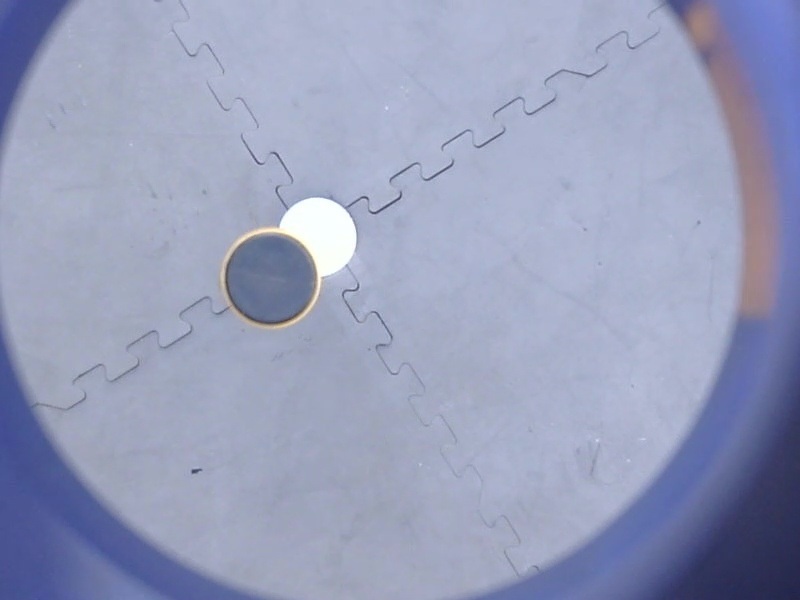tip: (214, 221, 327, 337)
